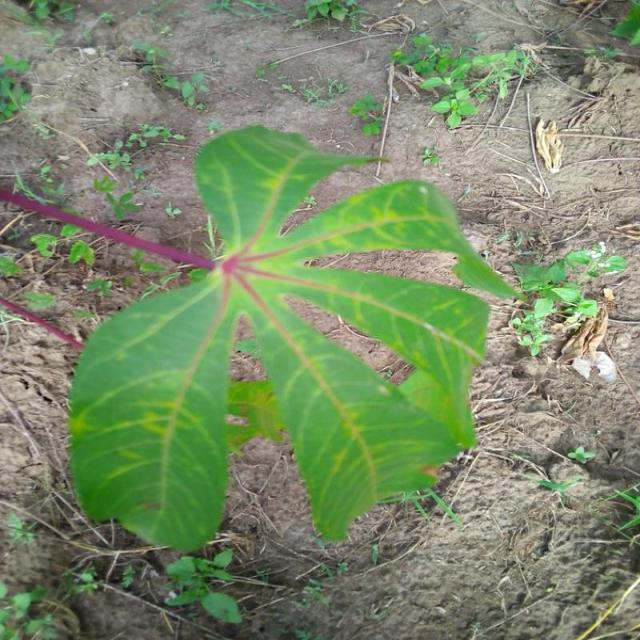cassava leaf: (63, 122, 518, 552), (66, 264, 240, 552)
